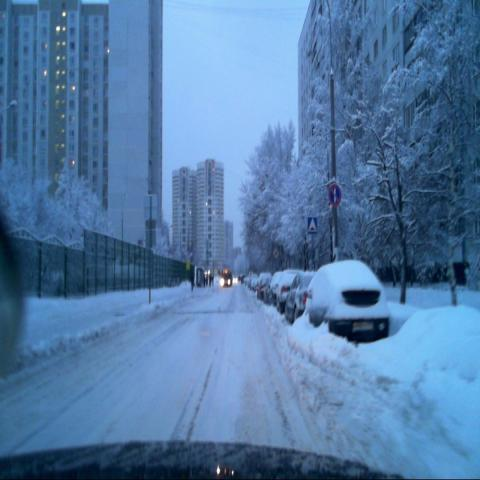3_29: (328, 181, 341, 206)
